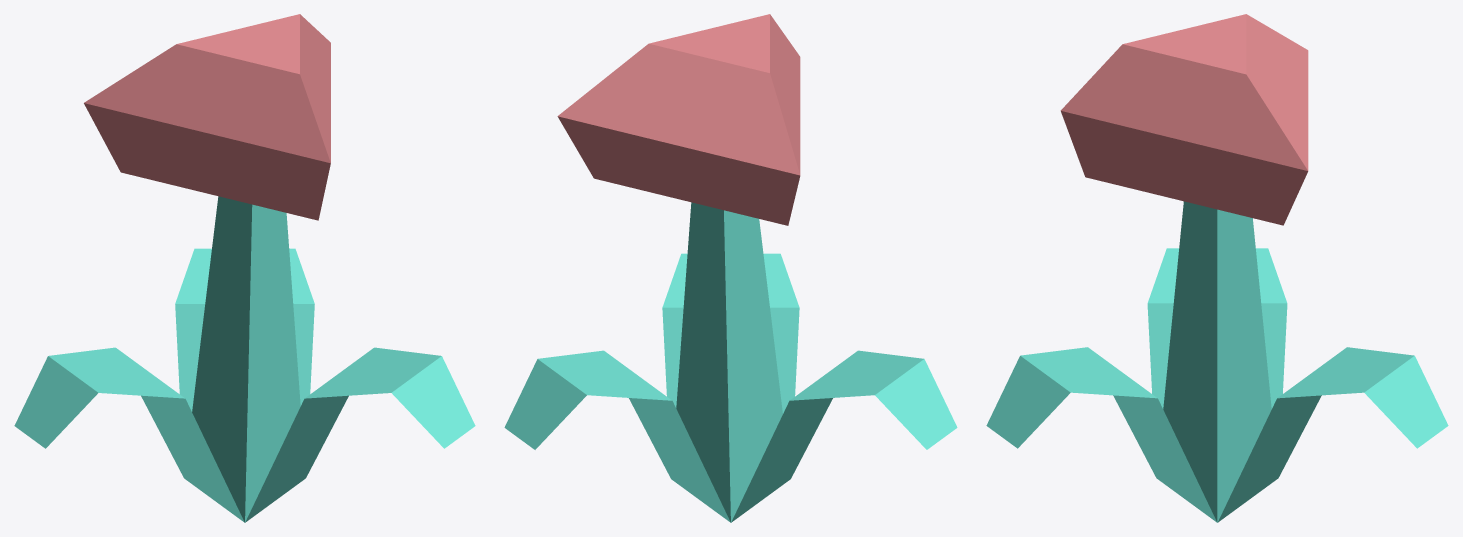
Rendered from flower_redB.glb.
3 views of the same model, side by side, from view 1: azimuth 30°, elevation 25°; view 2: azimuth 150°, elevation 25°; view 3: azimuth 270°, elevation 25° (orthographic).
Visible parts, largest first — view 1: flower_redB; view 2: flower_redB; view 3: flower_redB.
Boxes of the visible parts, bbox=[...] form: flower_redB: bbox=[14, 14, 475, 522]; flower_redB: bbox=[504, 14, 957, 522]; flower_redB: bbox=[986, 14, 1448, 522].
Size of the model in its own units: 0.2073 by 0.2585 by 0.2392.
